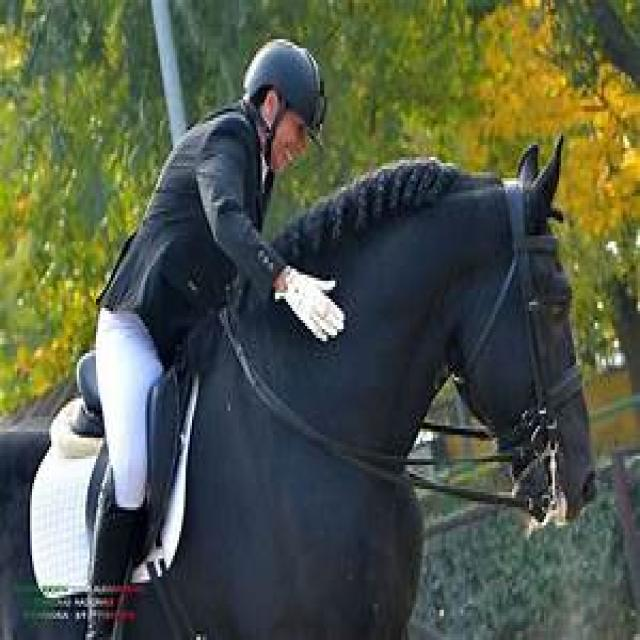horse: (0, 149, 591, 638)
